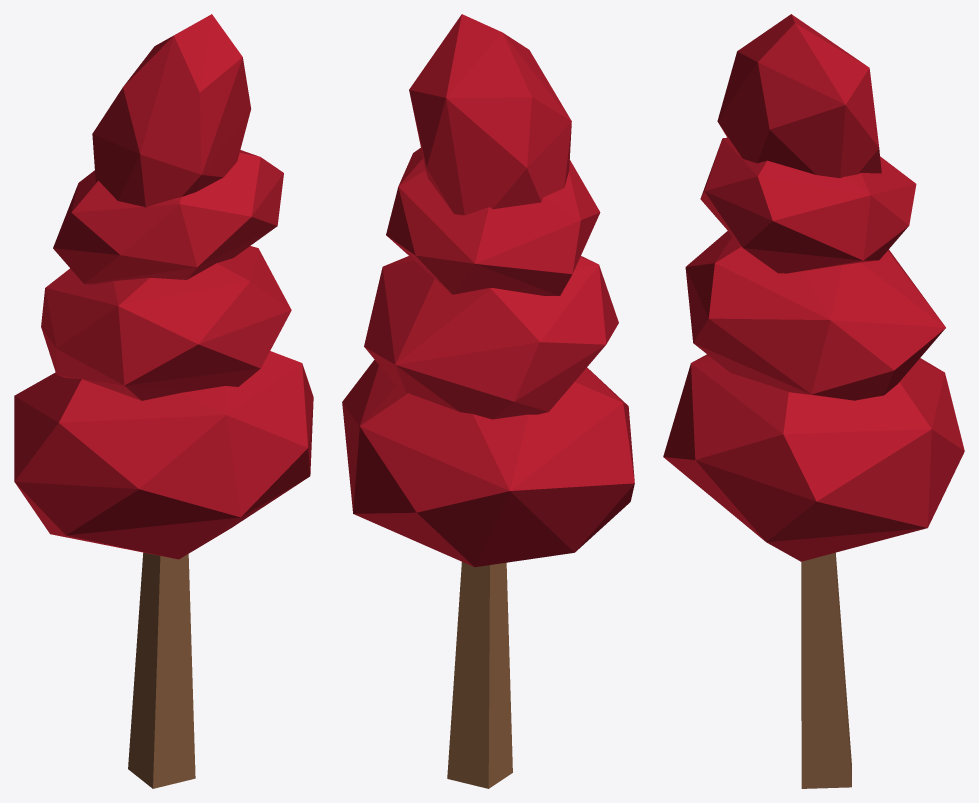
The model's file is tree-dead-complete-4-008.glb.
3 views of the same model, side by side, from view 1: azimuth 30°, elevation 25°; view 2: azimuth 150°, elevation 25°; view 3: azimuth 270°, elevation 25° (orthographic). The views are drawn at different scales.
Parts seen in each view (by area): view 1: TREE 4.007_513, TREE 4.006_523; view 2: TREE 4.007_513, TREE 4.006_523; view 3: TREE 4.007_513, TREE 4.006_523.
Part boxes in pixels (left/top/right/bottom): TREE 4.007_513: left=14, top=14, right=313, bottom=559; TREE 4.006_523: left=128, top=552, right=195, bottom=788; TREE 4.007_513: left=342, top=14, right=634, bottom=567; TREE 4.006_523: left=447, top=562, right=512, bottom=788; TREE 4.007_513: left=663, top=14, right=964, bottom=561; TREE 4.006_523: left=801, top=552, right=851, bottom=788.
Bounding box in the file's own units: 0.7503 × 1.82 × 0.646.
